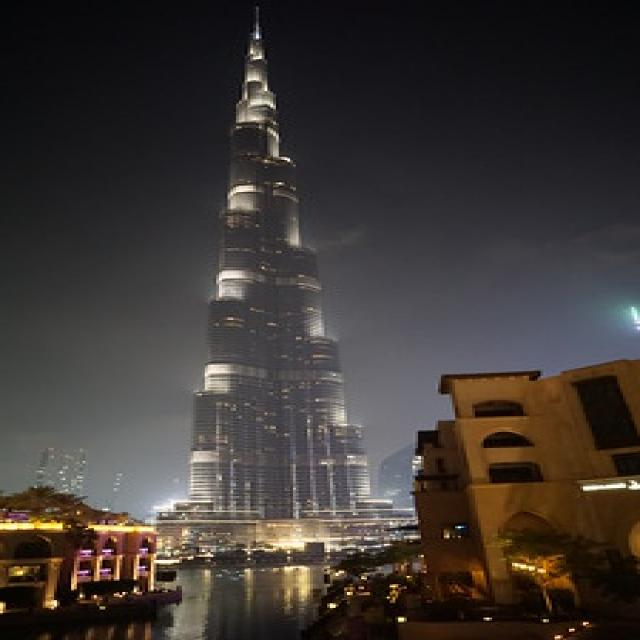Normal_building: (164, 35, 402, 552)
